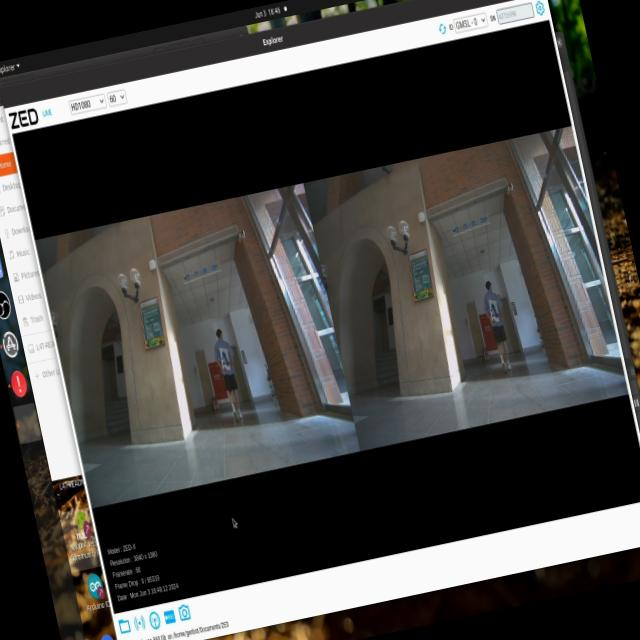blue: (484, 296, 504, 330), (218, 345, 238, 371)
